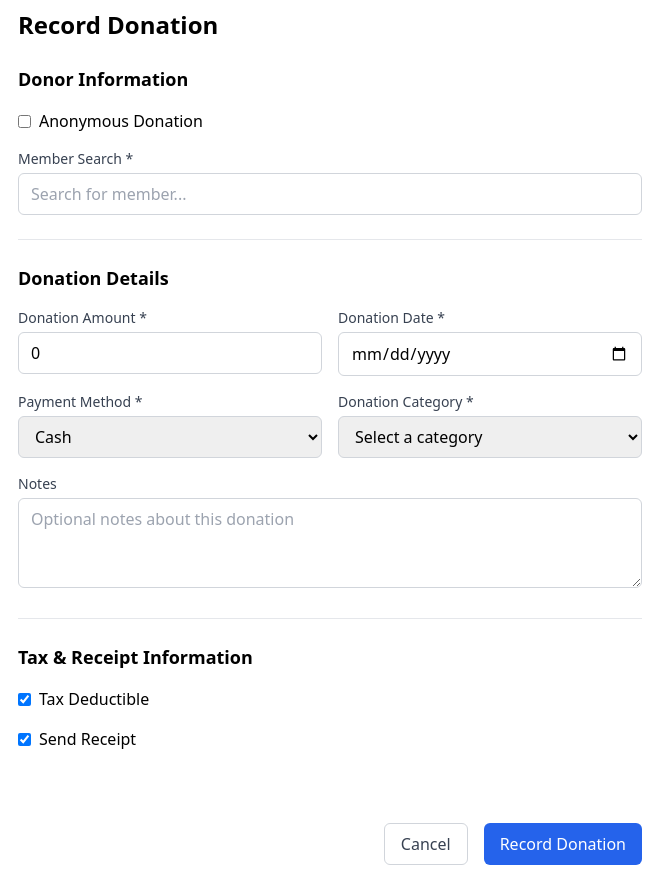
Test case: DonationForm › Member Search Integration › should select member from search results
This screenshot has width=661, height=882.
In the field labelled "Member Search *": point(330, 194) [18,173,642,215], type "John"
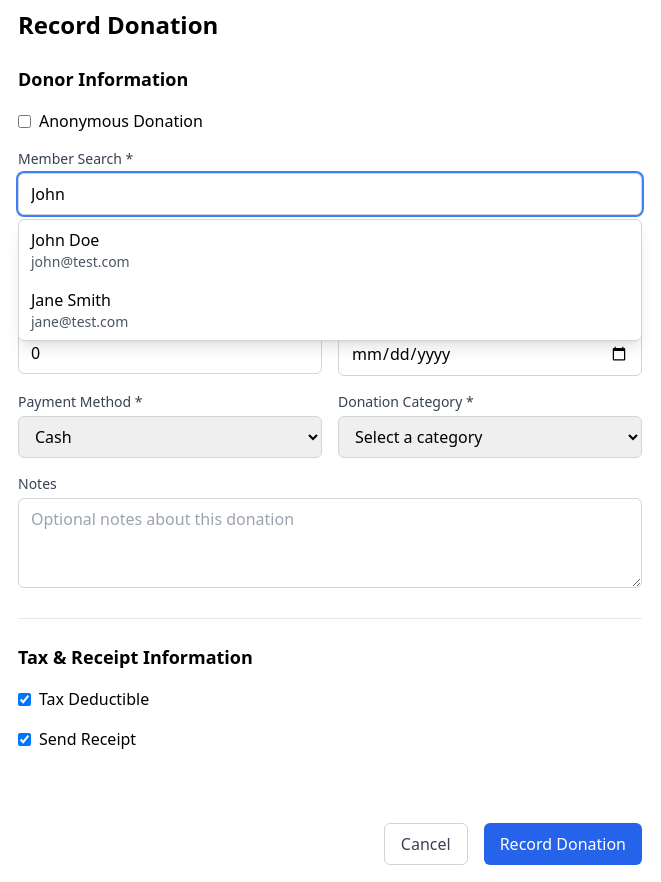
Check: the text "John Doe" is shown
Click the text "John Doe": point(65, 240) [31,229,99,251]
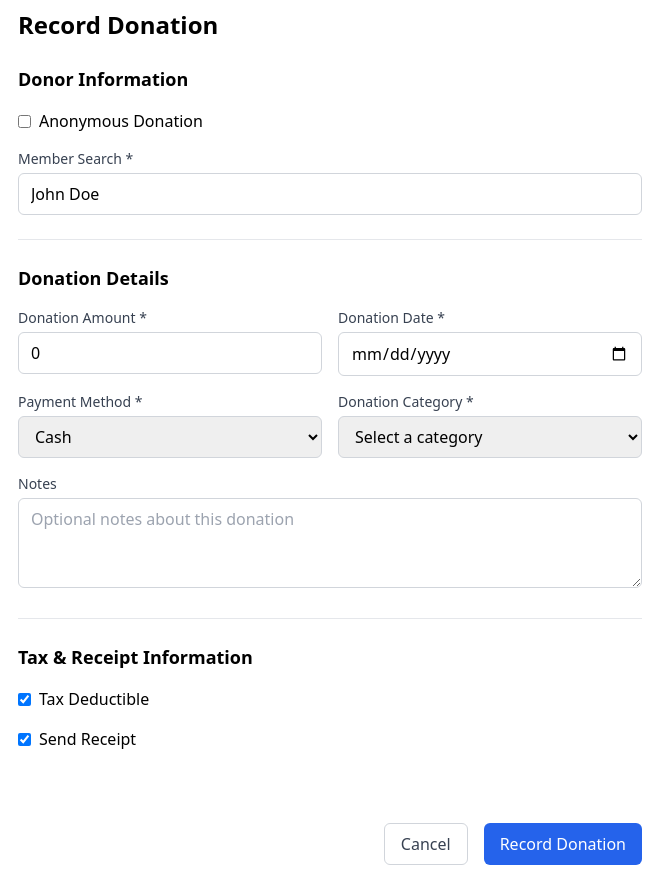
Check: the field labelled "Member Search *" holds "John Doe", box [18,173,642,215]
